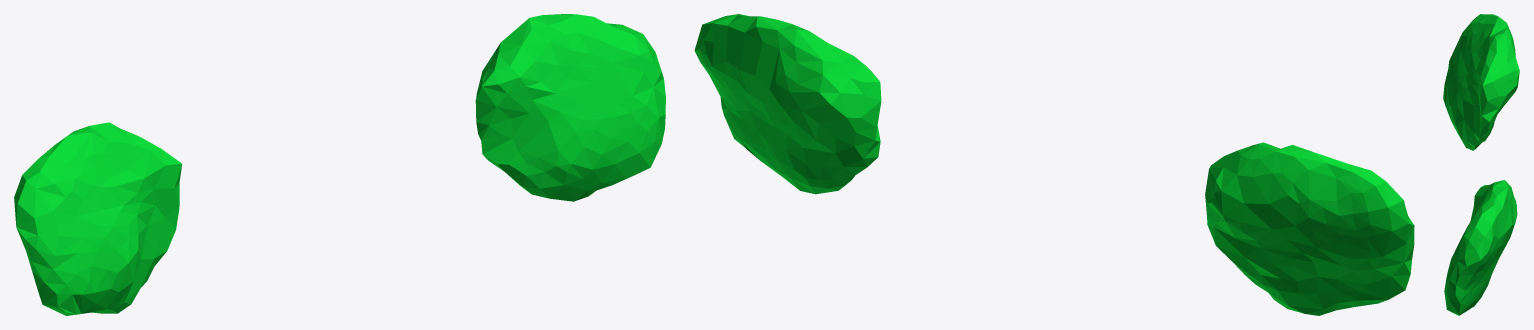
File: 8-V4A-visual area 4A-('0.0000', '1.0000', '0.2275').obj
3 views of the same model, side by side, from view 1: azimuth 30°, elevation 25°; view 2: azimuth 150°, elevation 25°; view 3: azimuth 270°, elevation 25° (orthographic). The views are drawn at different scales.
Size of the model in its own units: 168 by 42.05 by 23.97.
